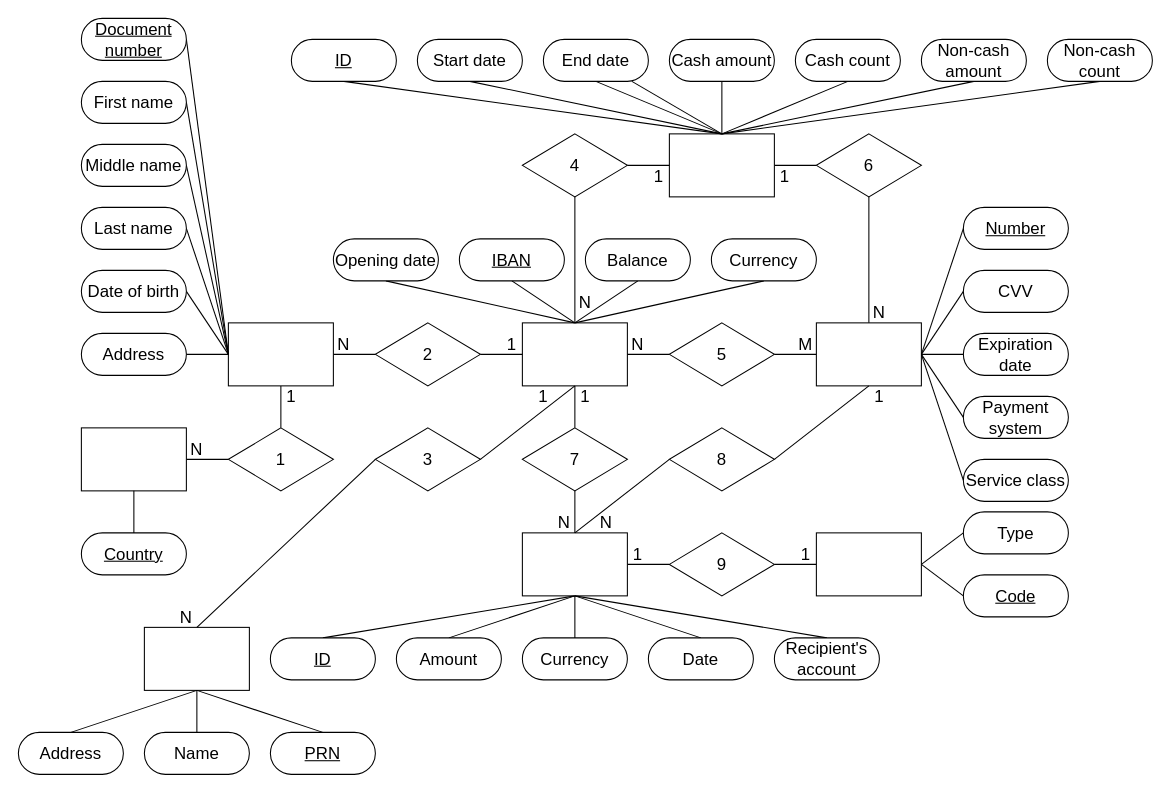
Some shapes in this 1171 by 793 pixel diagram are drawn without their labels. Here are the shapes that lost their labels. From the top down, the centre of each, then its label:
At pixel 721 165: "Limit".
At pixel 280 354: "Individual".
At pixel 574 354: "Account".
At pixel 868 354: "Card".
At pixel 133 459: "Citizenship".
At pixel 574 564: "Transaction".
At pixel 868 564: "Transaction type".
At pixel 196 658: "Entity".
